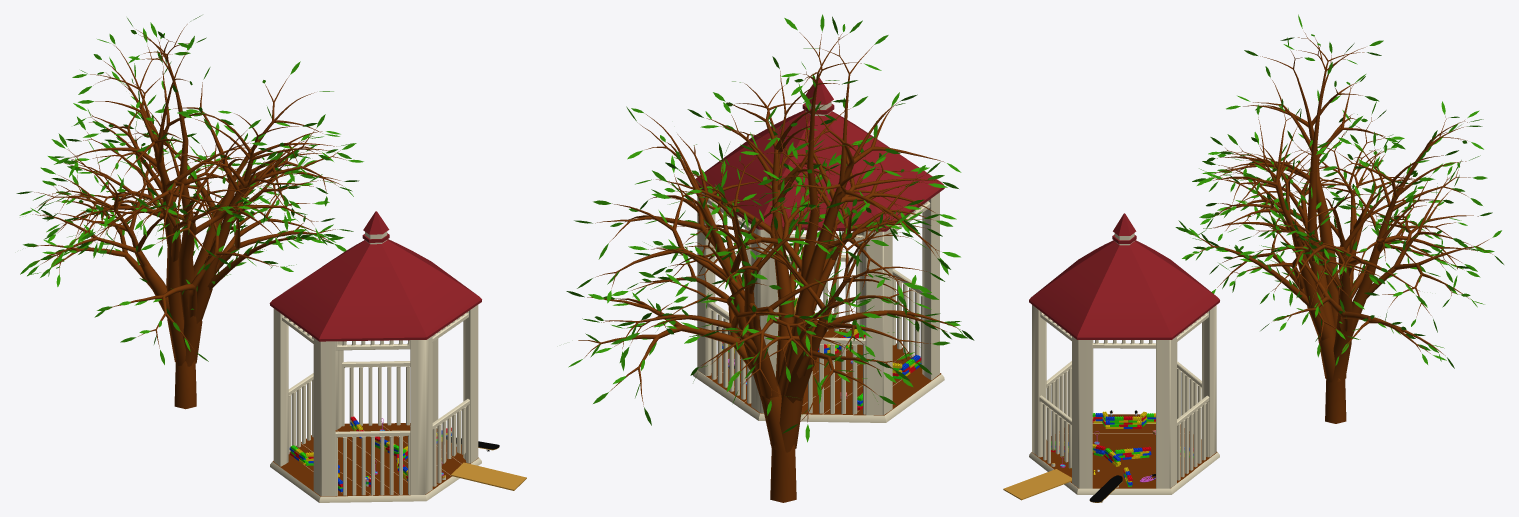
File: mapa4.fbx
3 renders of one model, left to right at view 1: azimuth 30°, elevation 25°; view 2: azimuth 150°, elevation 25°; view 3: azimuth 270°, elevation 25°, orthographic. The views are drawn at different scales.
Visible parts, largest first — view 1: Plane, tree, leaves, Tabua; view 2: tree, Plane, leaves; view 3: Plane, tree, leaves, Tabua.
Boxes of the visible parts, x1,y1,x2,y2 form: Plane: (269,211,481,502); tree: (31,24,346,409); leaves: (16,15,363,364); Tabua: (451,462,526,490); tree: (578,32,960,502); Plane: (693,78,944,422); leaves: (566,14,974,442); Plane: (1029,213,1219,494); tree: (1190,32,1492,423); leaves: (1175,14,1503,368); Tabua: (1003,469,1071,500).
Bounding box in the file's own units: 3140 × 3584 × 4255.
Materials: 16 (1 with a texture image).
